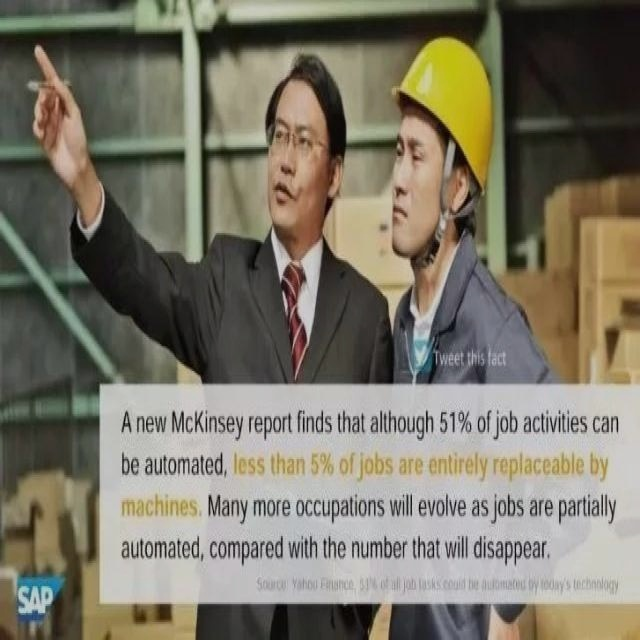Con_Casco: (386, 39, 491, 255)
Sin_Casco_Mascarrilla: (265, 57, 348, 235)
